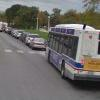Bus: (44, 23, 100, 84)
